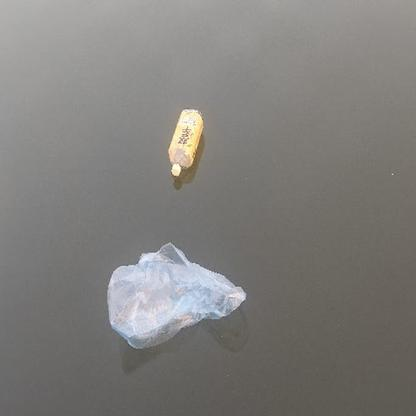plastic bag: (107, 241, 244, 350)
plastic bottle: (168, 107, 205, 178)
